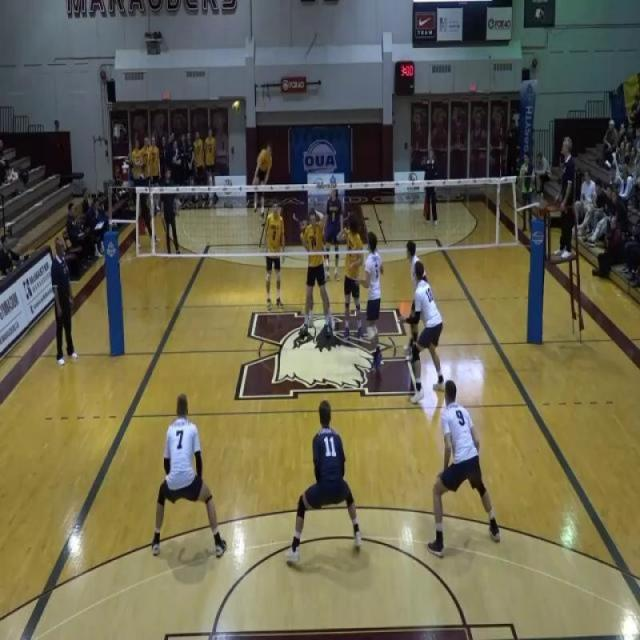volleyball: (232, 99, 240, 115)
